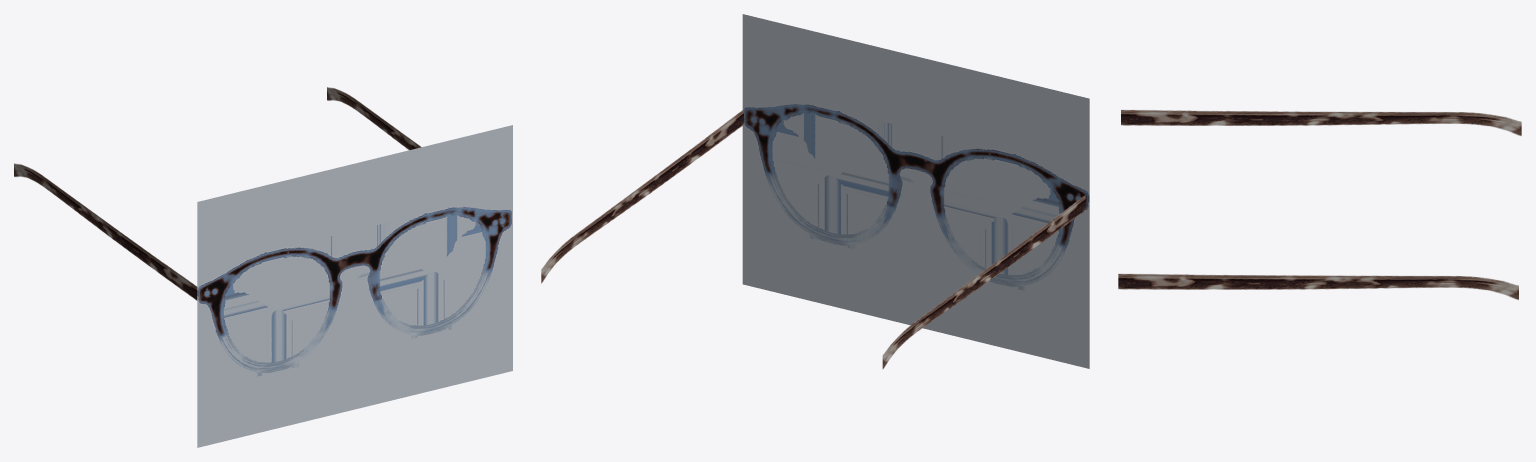
Rendered from times-target_tortoise-blue.glb.
3 views of the same model, side by side, from view 1: azimuth 30°, elevation 25°; view 2: azimuth 150°, elevation 25°; view 3: azimuth 270°, elevation 25° (orthographic). The views are drawn at different scales.
Parts seen in each view (by area): view 1: Front, Right, Left; view 2: Front, Right, Left; view 3: Left, Right.
Boxes of the visible parts, x1,y1,x2,y2 form: Front: (197, 125, 512, 447); Right: (14, 163, 197, 300); Left: (327, 87, 421, 149); Front: (742, 14, 1089, 368); Right: (882, 195, 1085, 369); Left: (541, 109, 743, 283); Left: (1118, 273, 1518, 299); Right: (1121, 110, 1521, 135).
Bounding box in the file's own units: 146 × 109 × 149.
Materials: 4 (4 with a texture image).
